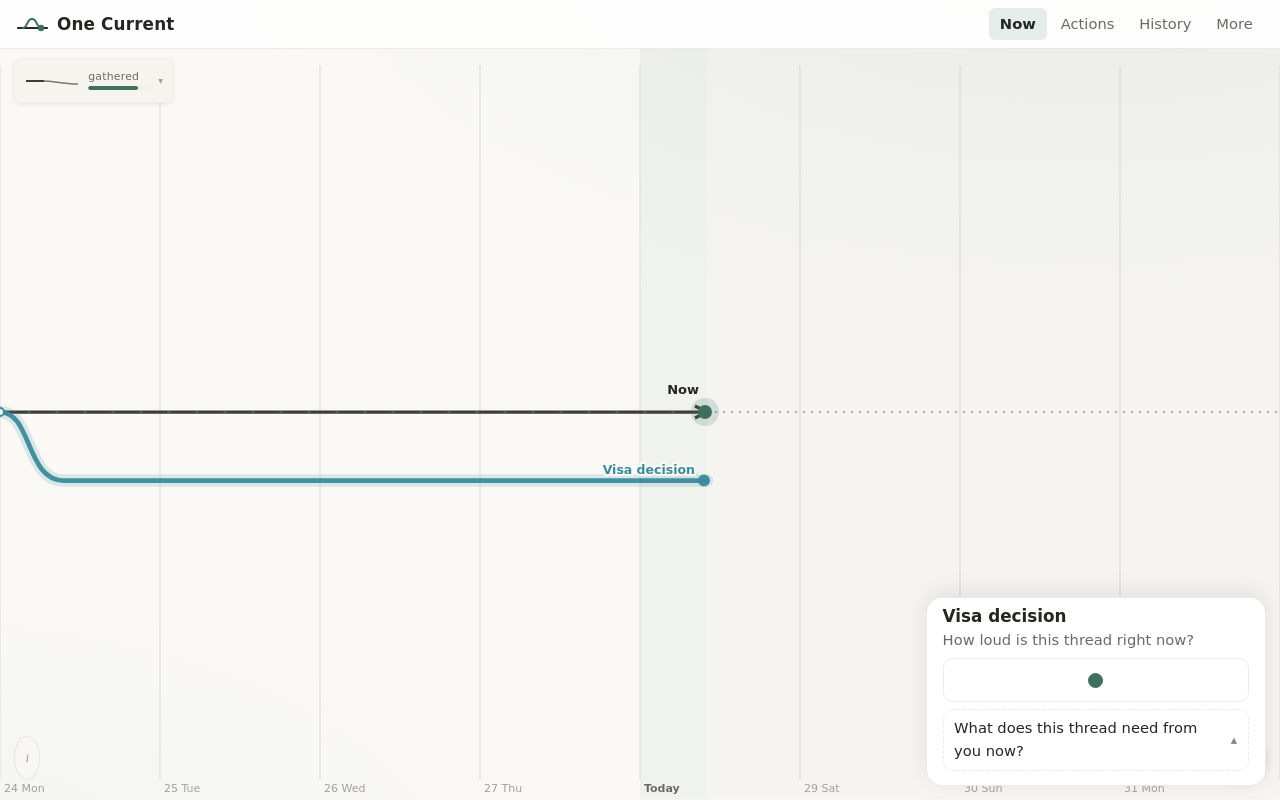
Test: app flows › offers the three decisions plus a quieter understanding
The width and height of the screenshot is (1280, 800).
Expected: the slider labelled "How loud is this thread right now?" is shown, [943, 658, 1249, 702]
Expected: the text "Take one small step." is not shown
Click the button "What does this thread need from you now? ▴": (1076, 728) [943, 709, 1249, 771]
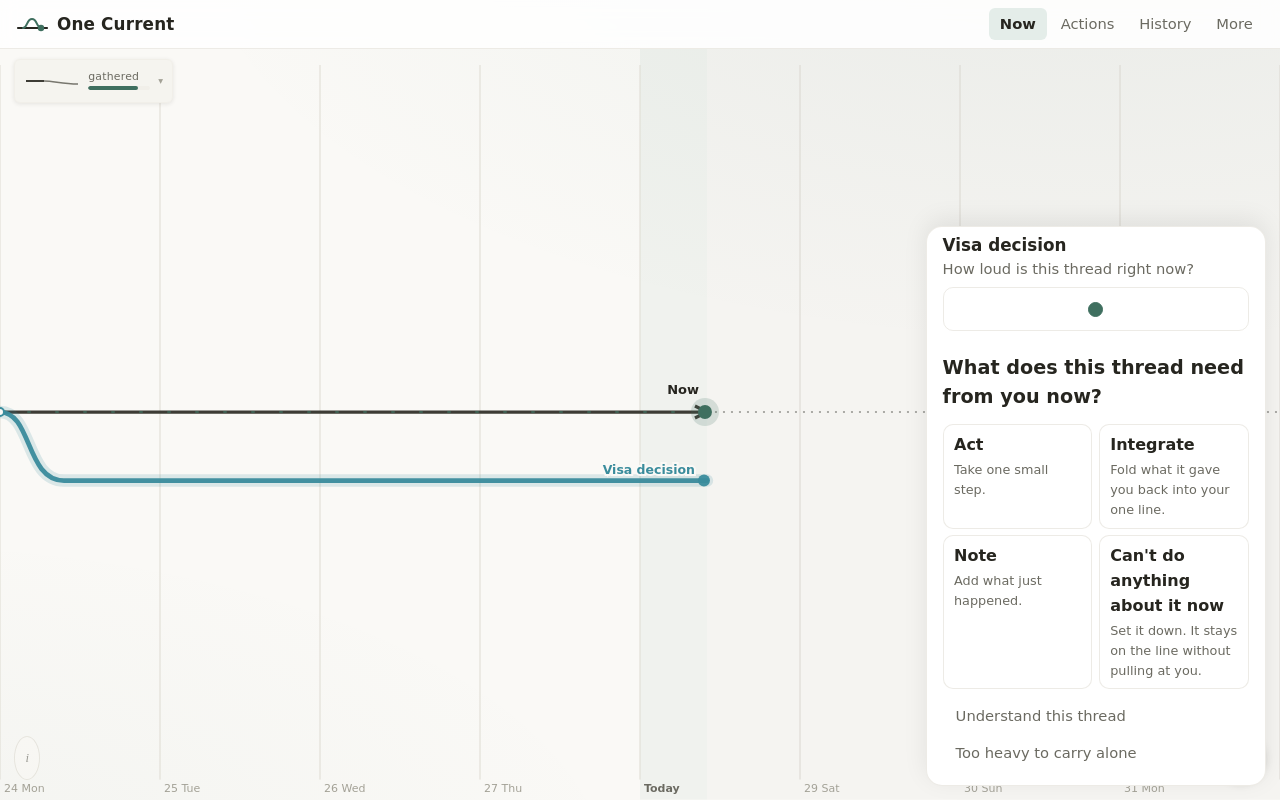
Now the text "Take one small step." is shown, box [954, 462, 1048, 497]
Now the text "Fold what it gave you back into your one line." is shown, box [1110, 460, 1237, 520]
Now the text "Add what just happened." is shown, box [954, 573, 1042, 608]
Note: Understanding is the deep view — the only place that becomes a dialog.
Click the button "Understand this thread": (1041, 716) [943, 699, 1139, 733]
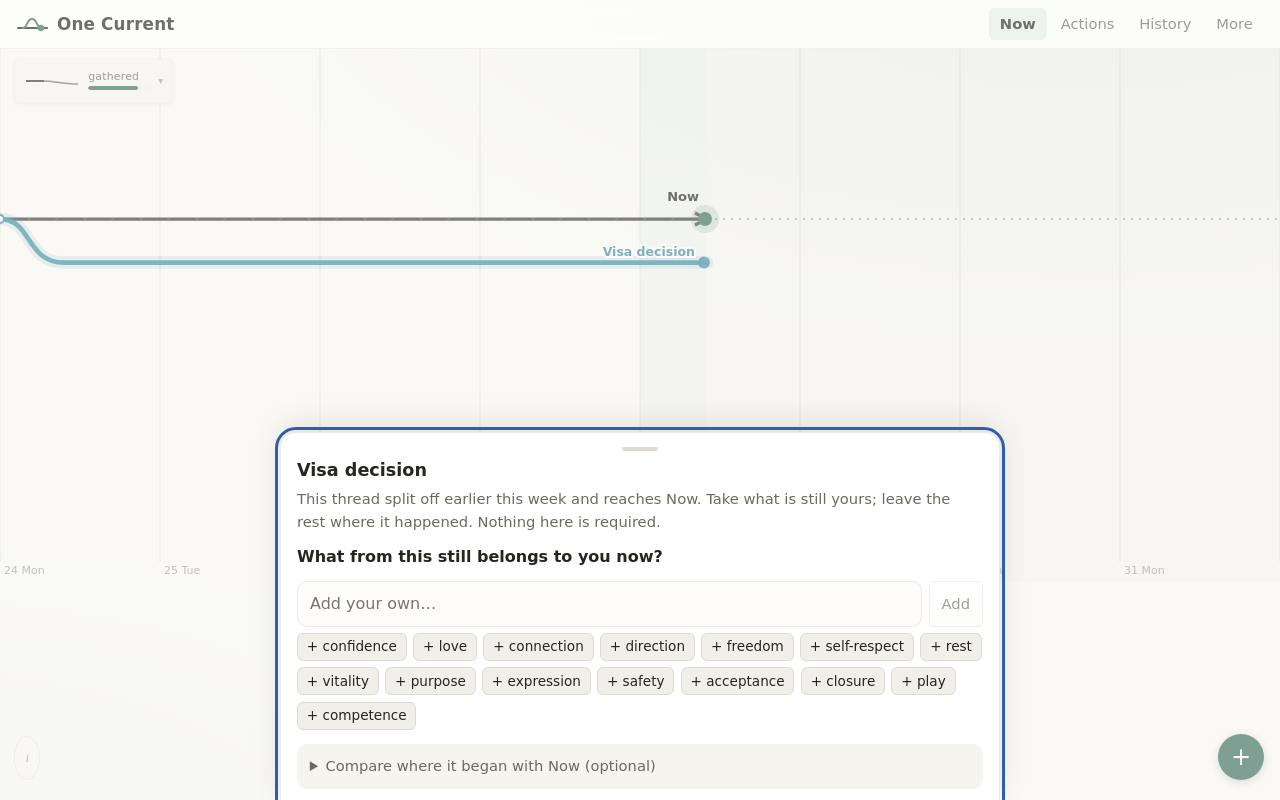
Now the dialog is shown, box [280, 432, 1000, 799]
Now the element with class "sheet-backdrop" is shown
